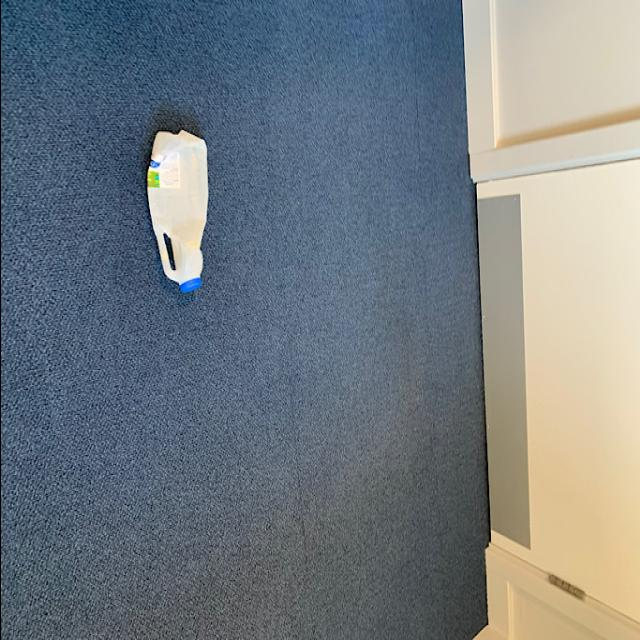litter: (142, 124, 210, 292)
